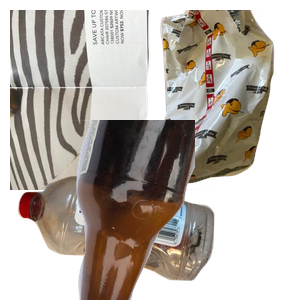glass: (60, 120, 300, 300)
paper: (10, 10, 250, 190)
plastic: (15, 173, 222, 300)
trash: (127, 10, 300, 190)
